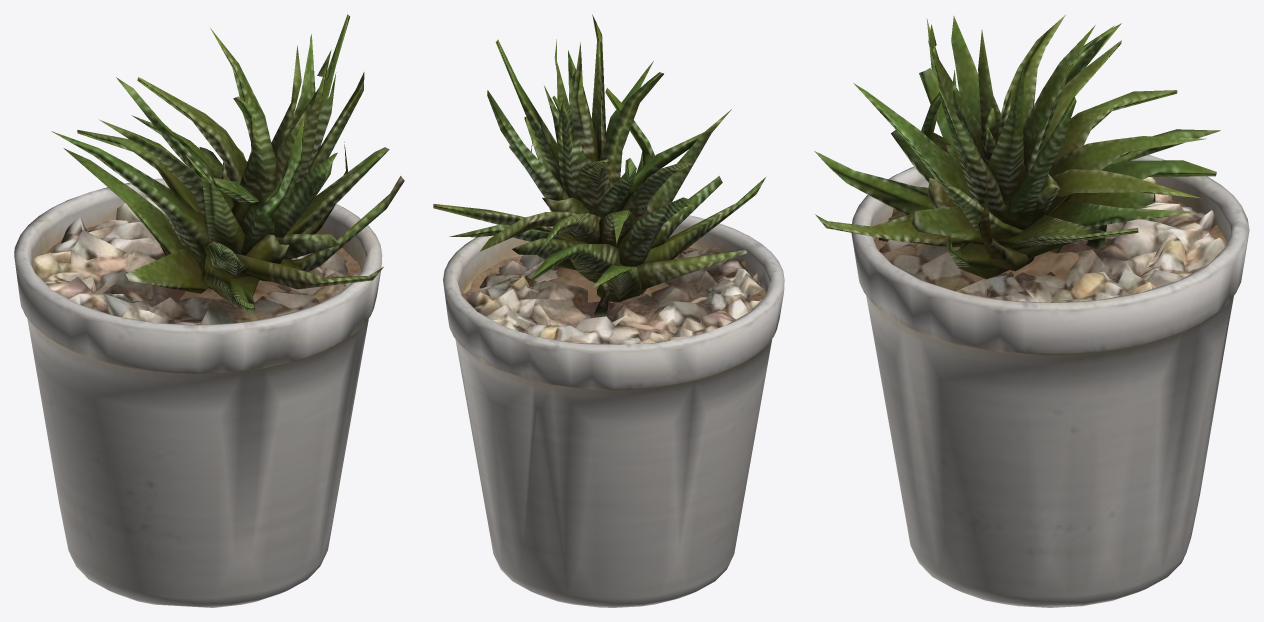
3 views of the same model, side by side, from view 1: azimuth 30°, elevation 25°; view 2: azimuth 150°, elevation 25°; view 3: azimuth 270°, elevation 25° (orthographic). The views are drawn at different scales.
Visible parts, largest first — view 1: potted_plant_04_pot, potted_plant_04_plant, potted_plant_04_ground, potted_plant_04_dirt; view 2: potted_plant_04_pot, potted_plant_04_plant, potted_plant_04_ground, potted_plant_04_dirt; view 3: potted_plant_04_pot, potted_plant_04_plant, potted_plant_04_ground, potted_plant_04_dirt.
Boxes of the visible parts, box(x1,y1,x2,y2) form: potted_plant_04_pot: box(14, 178, 382, 607); potted_plant_04_plant: box(51, 14, 404, 312); potted_plant_04_ground: box(33, 197, 357, 325); potted_plant_04_dirt: box(34, 224, 361, 307); potted_plant_04_pot: box(443, 215, 784, 607); potted_plant_04_plant: box(433, 14, 766, 315); potted_plant_04_ground: box(462, 247, 764, 344); potted_plant_04_dirt: box(461, 247, 766, 306); potted_plant_04_pot: box(851, 144, 1249, 607); potted_plant_04_plant: box(814, 14, 1220, 278); potted_plant_04_ground: box(878, 177, 1226, 302); potted_plant_04_dirt: box(874, 200, 1227, 297).
Bounding box in the file's own units: 0.1672 × 0.2668 × 0.1837.
Materials: 1 (1 with a texture image).
